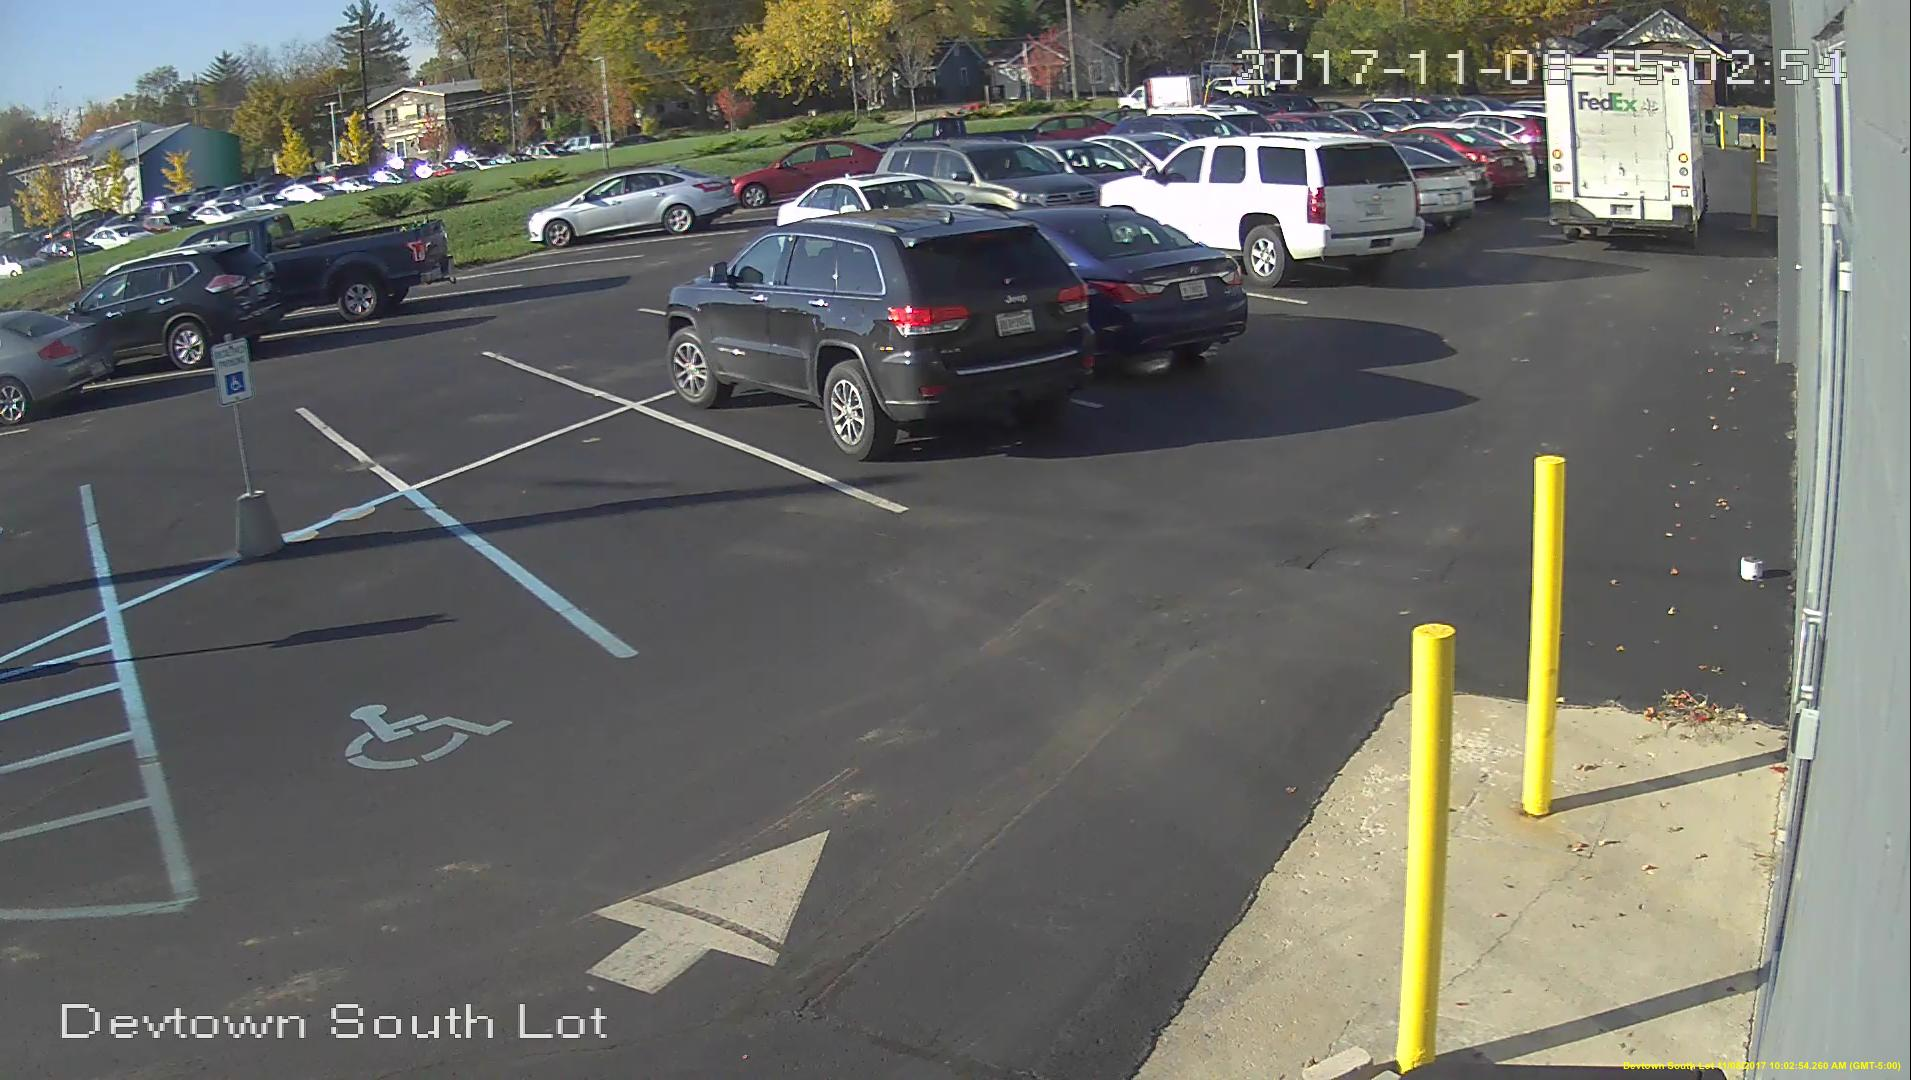fedex_truck: (1537, 47, 1718, 251)
